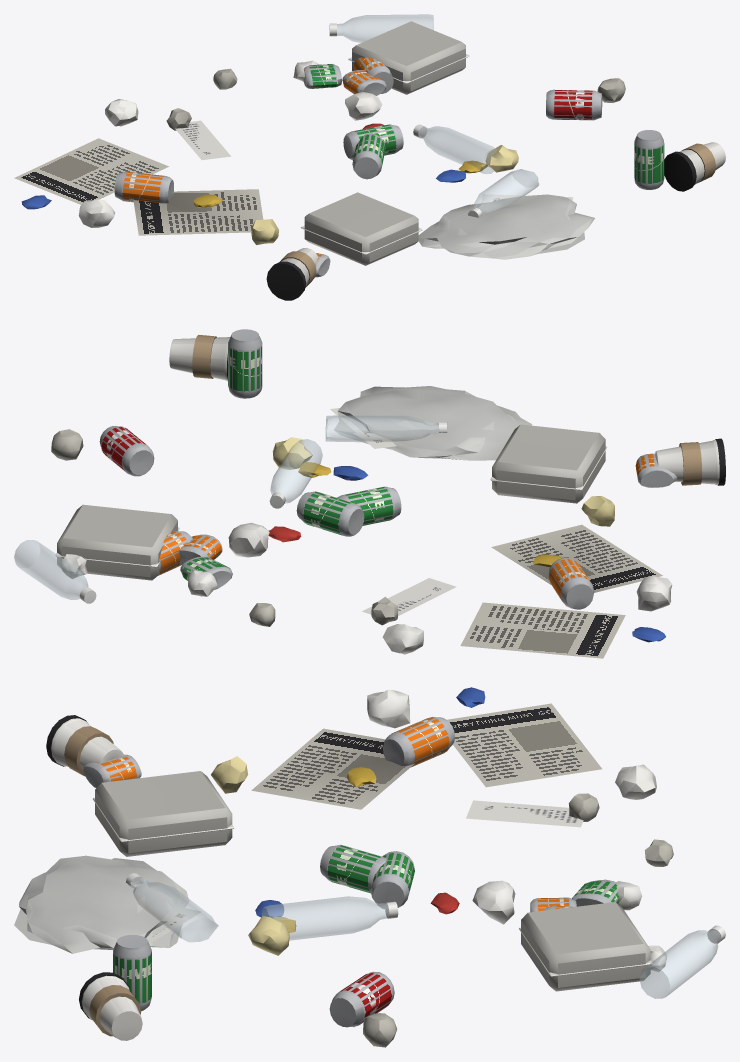
The model's file is litter_spread_c.glb.
The picture shows the model from 3 angles, top to bottom: view 1: azimuth 30°, elevation 25°; view 2: azimuth 150°, elevation 25°; view 3: azimuth 270°, elevation 25°; orthographic projection. The views are drawn at different scales.
Parts seen in each view (by area): view 1: body, panels, glass; view 2: body, panels, glass; view 3: body, panels, glass.
Boxes of the visible parts, x1,y1,x2,y2 form: body: [21, 21, 725, 300]; panels: [14, 57, 664, 261]; glass: [337, 14, 538, 215]; body: [51, 329, 725, 654]; panels: [101, 345, 662, 658]; glass: [14, 415, 439, 599]; body: [14, 687, 725, 1047]; panels: [94, 703, 618, 1025]; glass: [128, 878, 720, 998].
Size of the model in its own units: 1.44 by 0.1301 by 1.22.
Materials: 14 (1 with a texture image).
